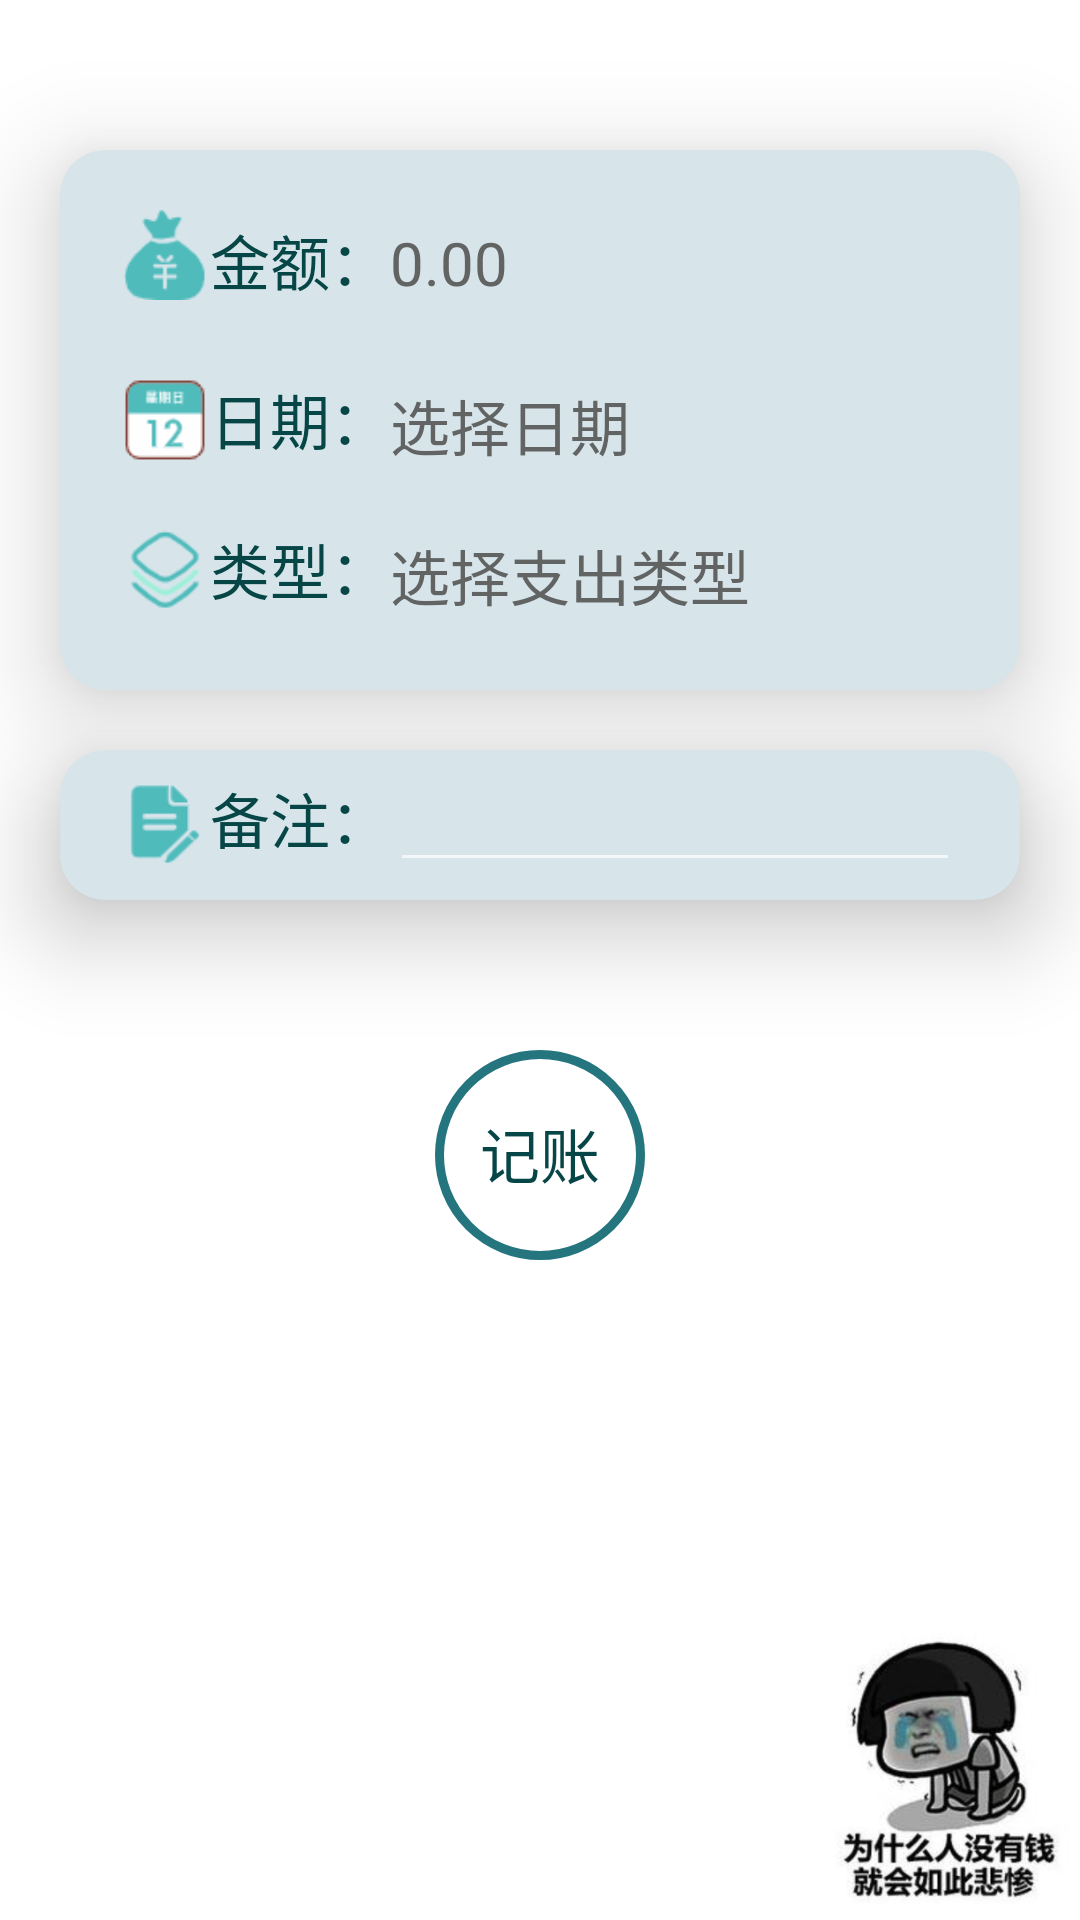

Point at icon controls on the screen. Image size 1080×1920, points as point (x, y).
dollar: point (164, 255)
remarks: point (165, 824)
